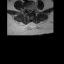CCS_severe_stenosis: (29, 8, 31, 14)
LFS_severe_stenosis: (32, 7, 34, 12)
LLS_normal: (31, 7, 32, 13)
RFS_severe_stenosis: (26, 7, 27, 12)
RLS_stenosis: (27, 7, 29, 13)
